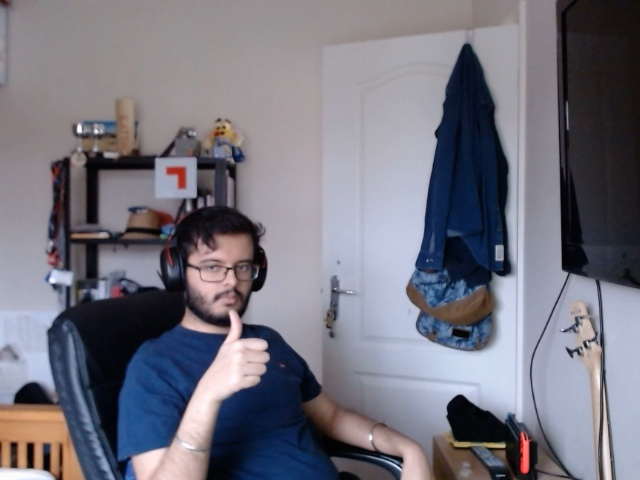Thumbs up: (213, 304, 270, 418)
